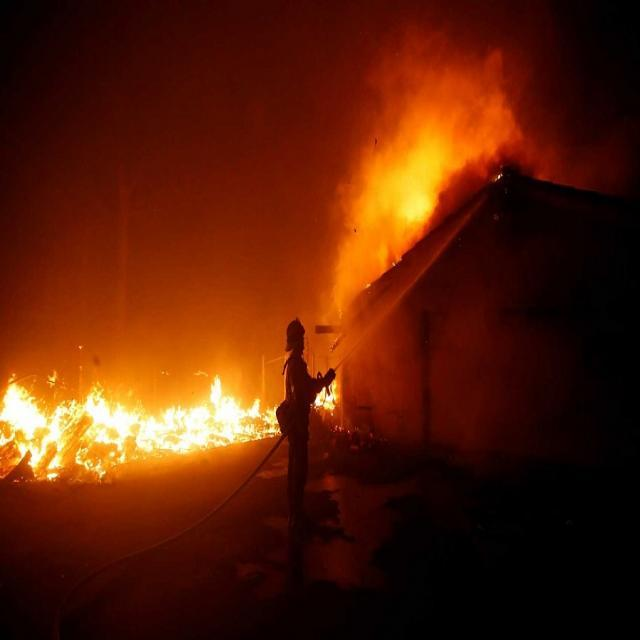Fire: (3, 367, 276, 479), (318, 384, 336, 409)
